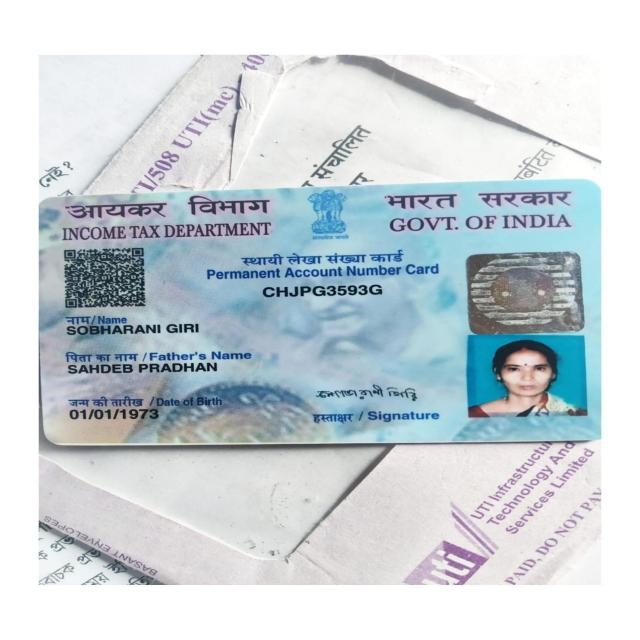pan_card: (41, 182, 598, 439)
